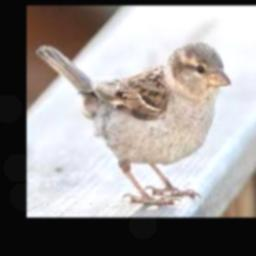Sparrow: (35, 41, 231, 204)
